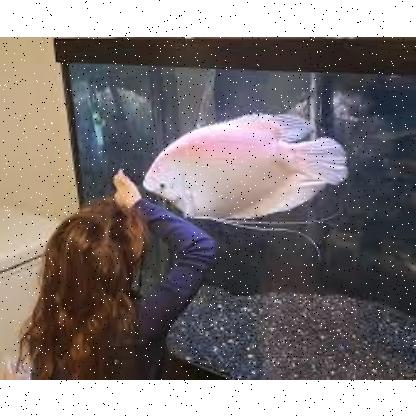gurame: (141, 113, 358, 226)
